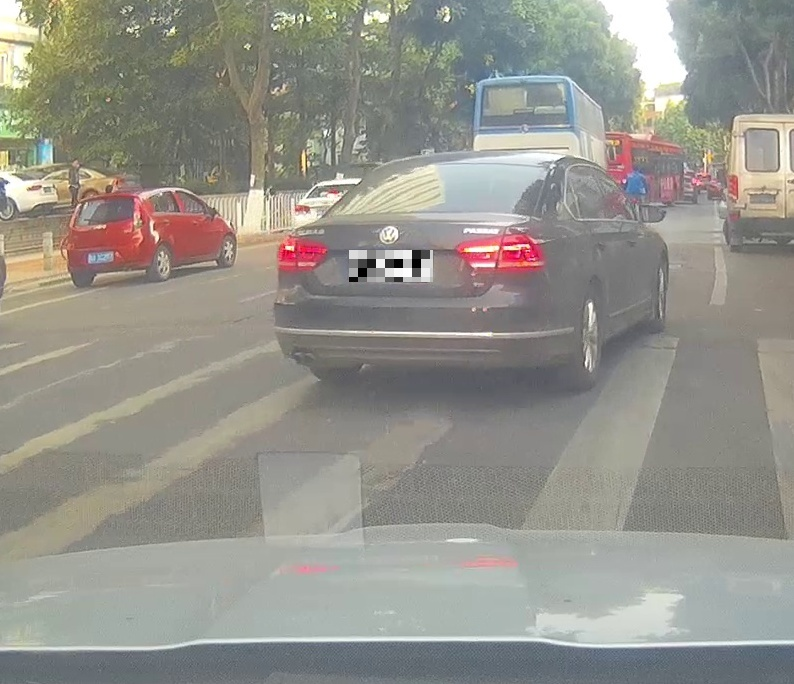L_light: (274, 234, 329, 274), (69, 221, 77, 231)
R_light: (456, 232, 545, 272), (132, 212, 144, 228)
T_light: (398, 203, 444, 214), (98, 197, 114, 201)
day-no: (274, 152, 547, 383), (67, 193, 149, 288)
plate_1: (349, 250, 433, 282)
